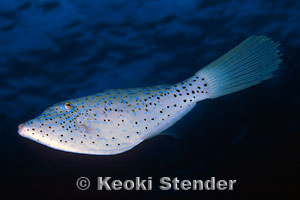Aluterus_scriptus: (16, 32, 284, 159)
